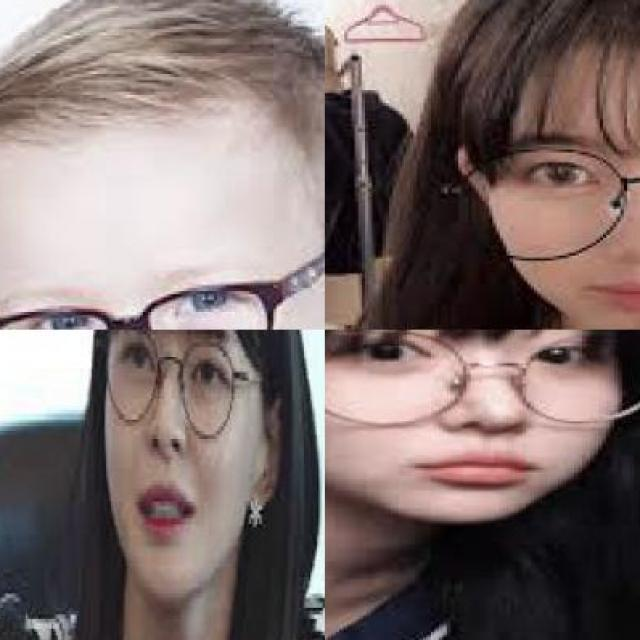Glasses: (325, 339, 640, 431), (424, 131, 640, 260), (95, 330, 246, 436), (0, 278, 304, 328)
